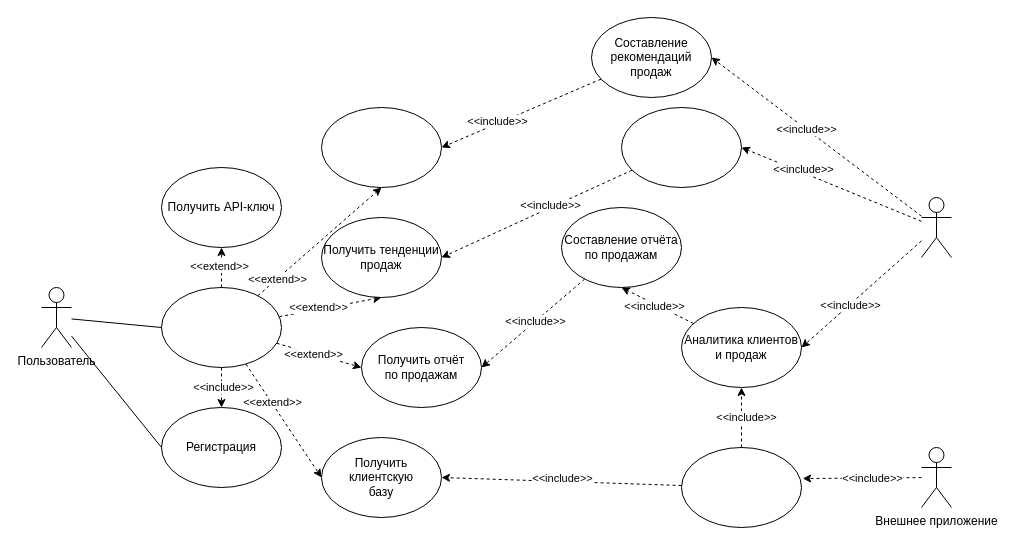
The diagram is 1015 pixels wide and 546 high, and some of its shapes have lost their labels. The shapes that lost their labels are listed below. From the top down, each one's box as (x1, y1, x2, y2) in pixels, then its label:
(320, 106, 442, 188): Получить рекомендации к продажам
(620, 106, 742, 188): Составление тенденций продаж
(920, 196, 952, 258): AI-ассистент
(160, 286, 282, 368): Авторизация
(680, 446, 802, 528): Запись продаж и списка клиентов в базу данных
